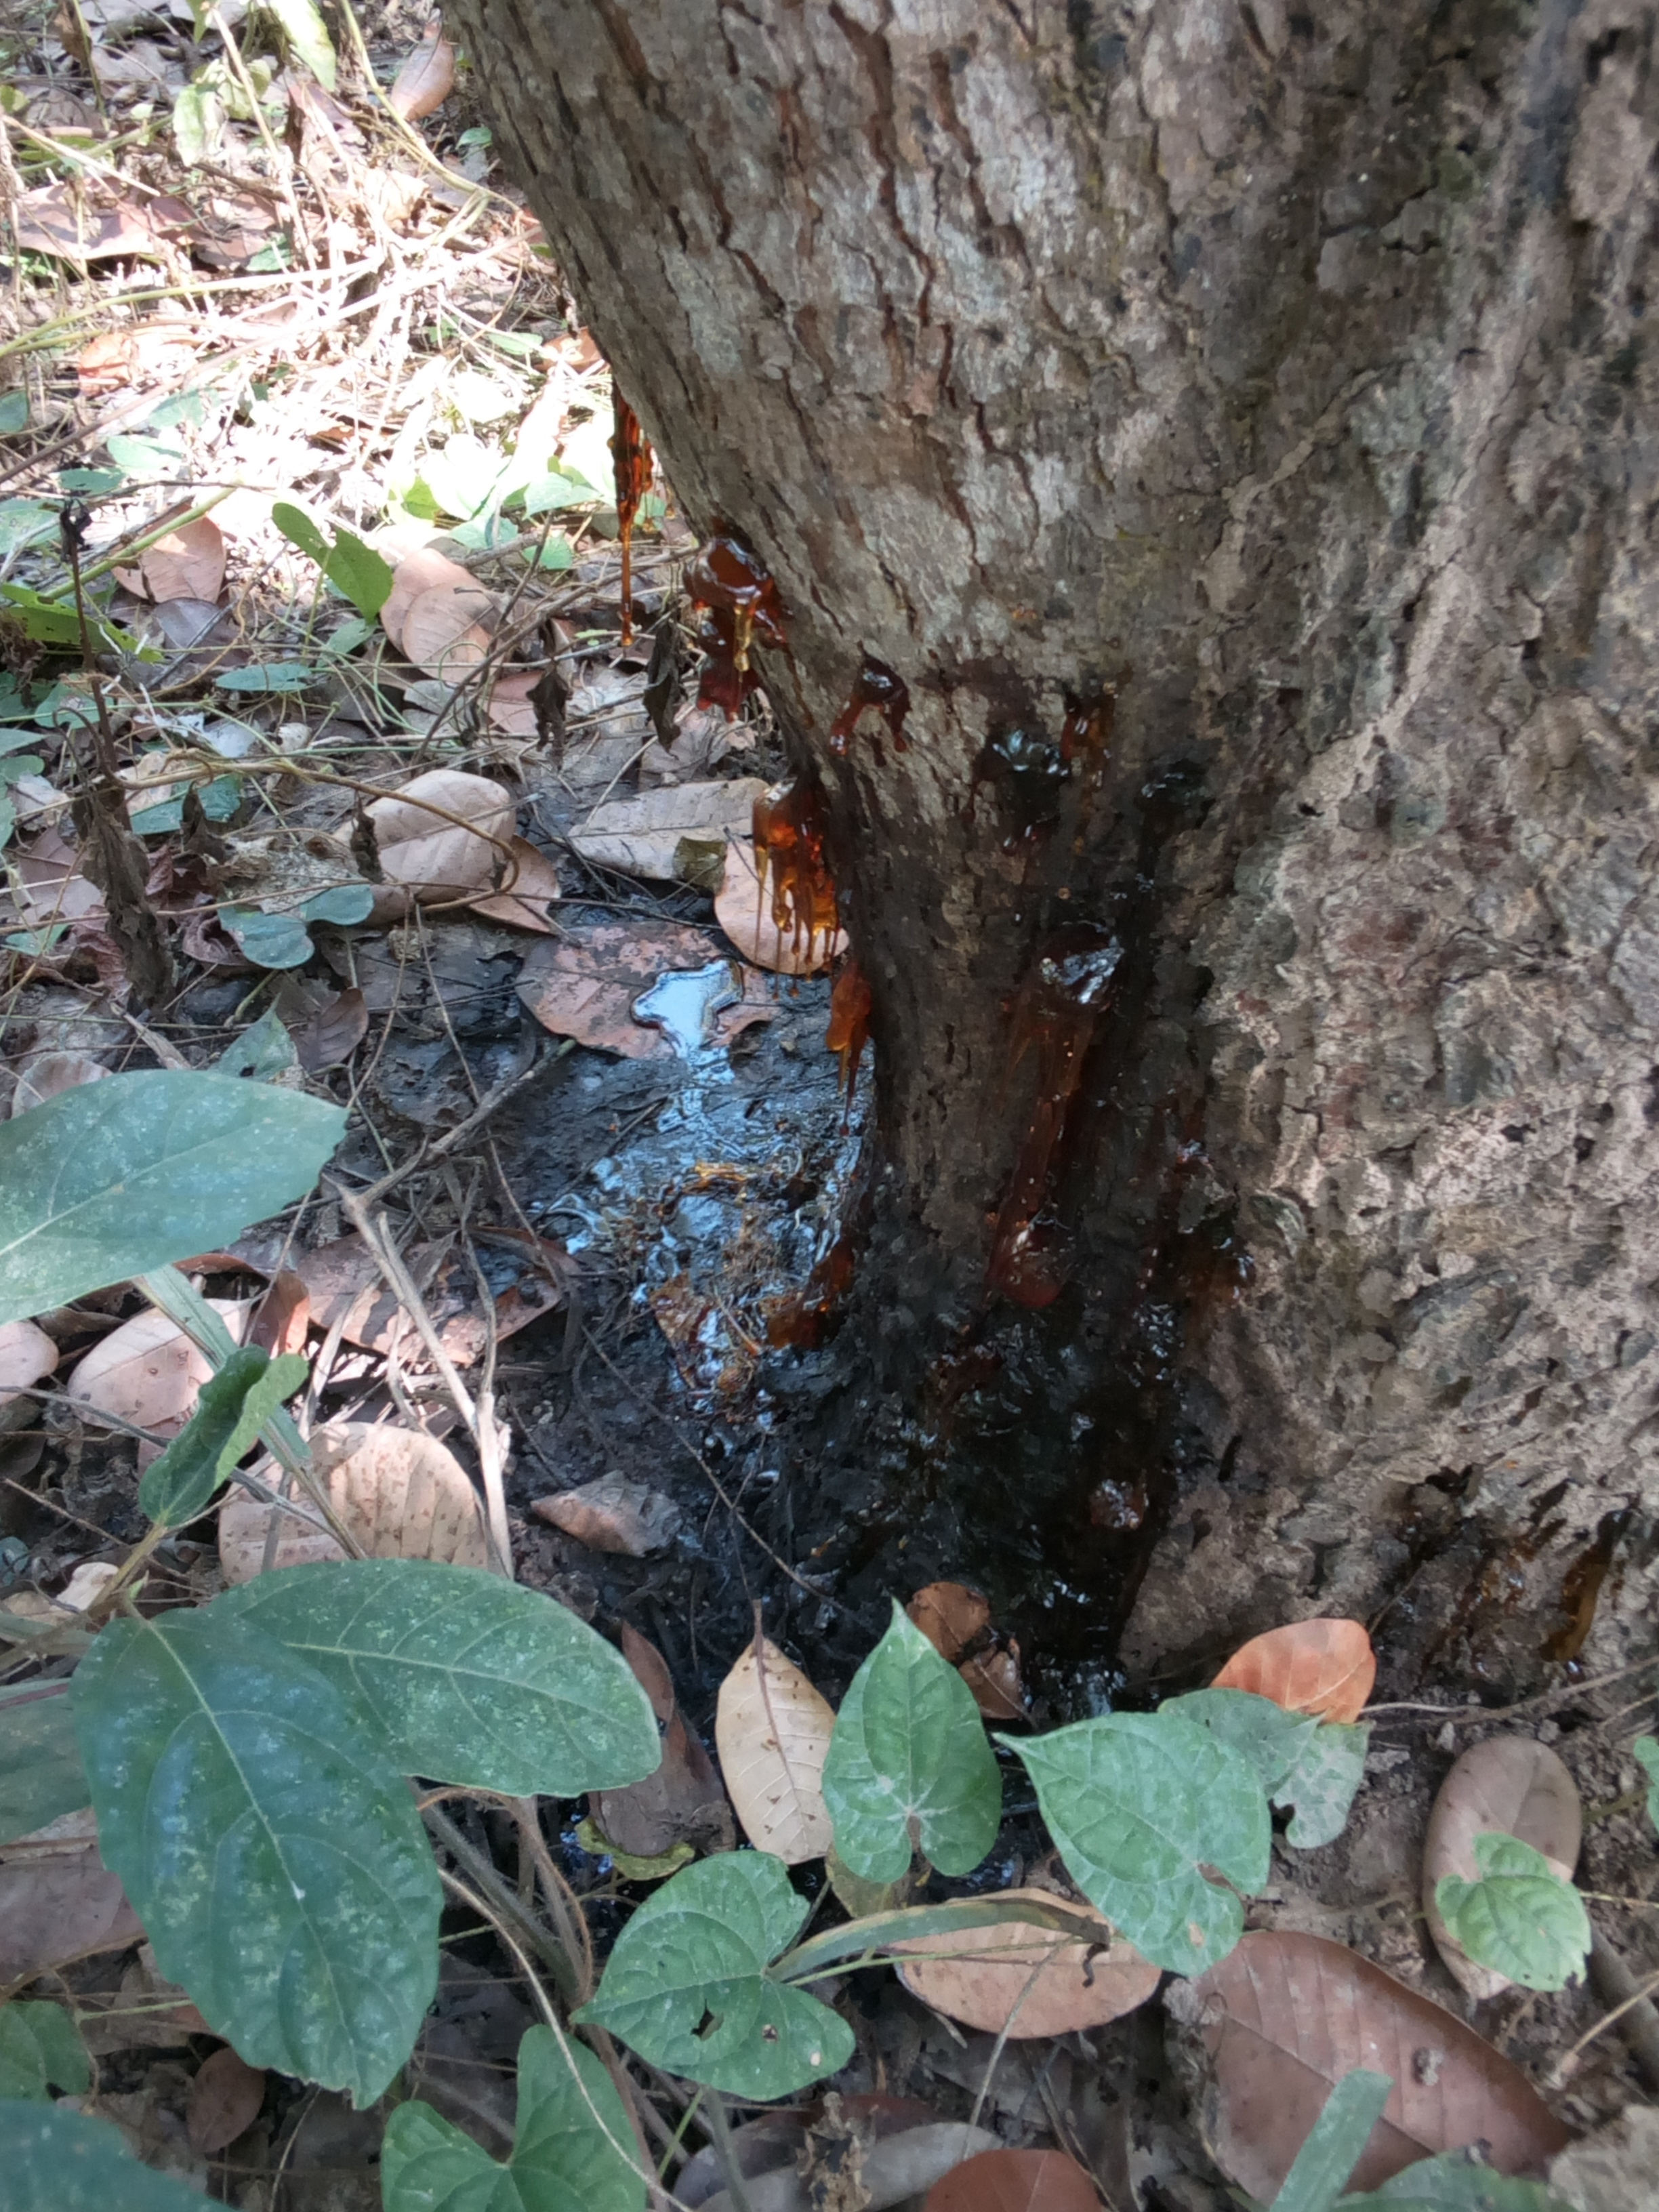Gommose: (671, 629, 1249, 1615)
